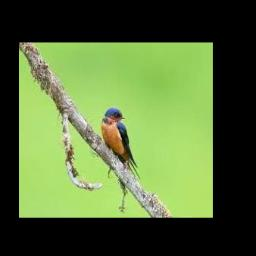Swallow: (101, 107, 140, 181)
